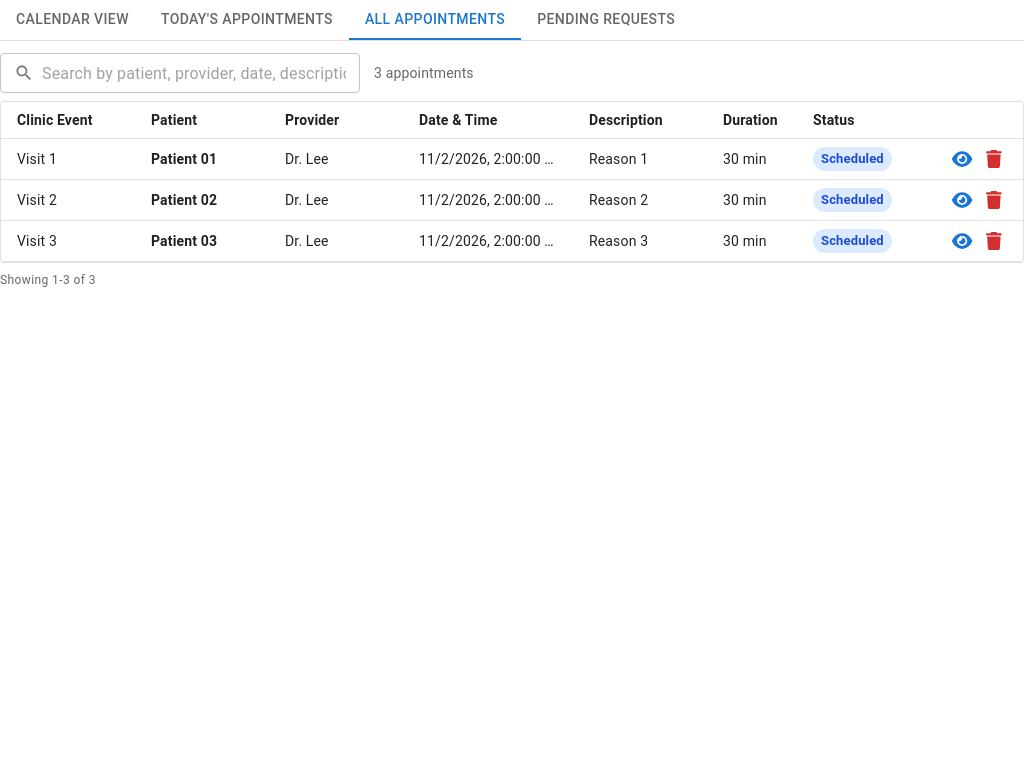
Test case: clicking a row opens its details
Step 1. Click the row named "Details for Patient 02" → (512, 200), box top-left (1, 180), bottom-right (1023, 221)
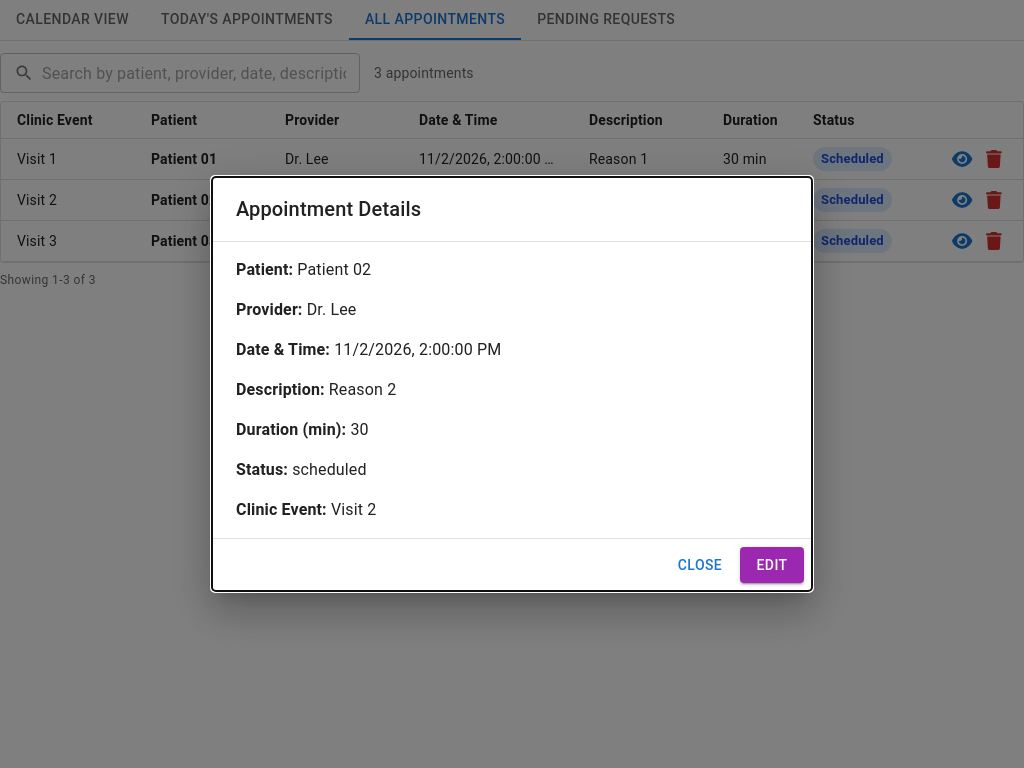
Check: the heading "Appointment Details" is shown, box top-left (236, 197), bottom-right (421, 221)
Check: the text "Patient: Patient 02" is shown, box top-left (236, 260), bottom-right (371, 279)
